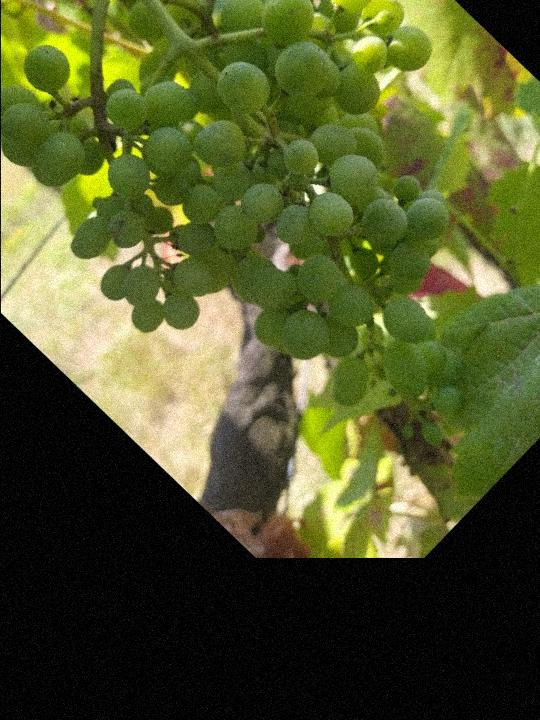grape: (0, 0, 540, 543)
